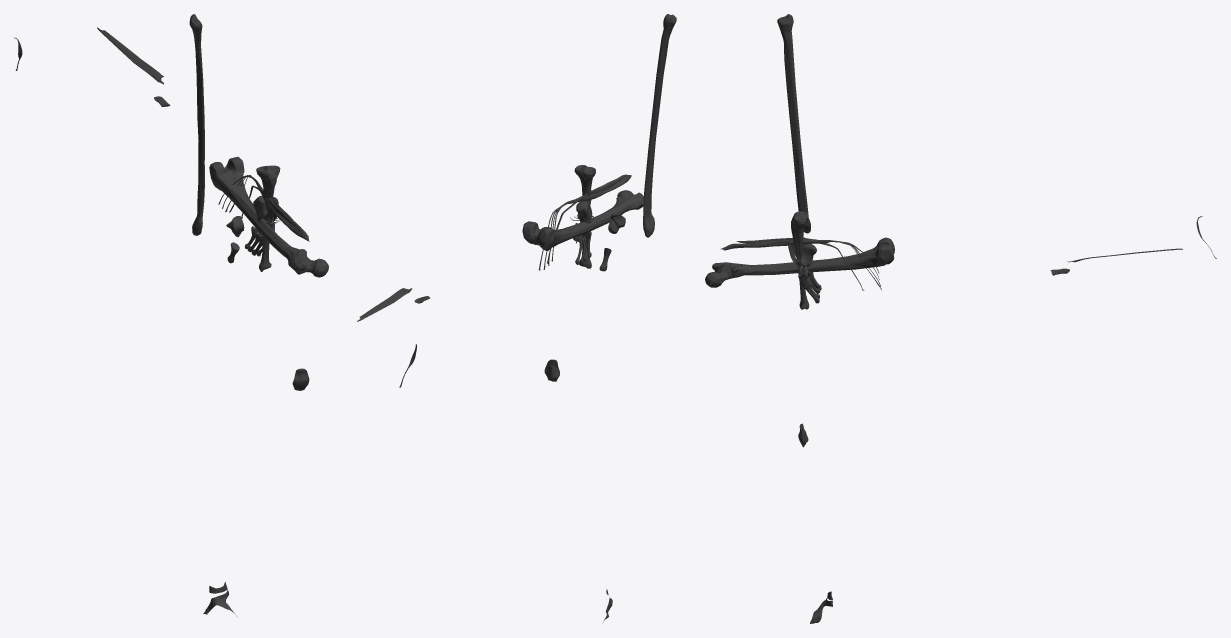
The model's file is sharedassets2.glb.
3 renders of one model, left to right at view 1: azimuth 30°, elevation 25°; view 2: azimuth 150°, elevation 25°; view 3: azimuth 270°, elevation 25°, orthographic. The views are drawn at different scales.
Parts seen in each view (by area): view 1: 0001_Femur _thigh_, R__000930, 0030_Fibula _leg_, R__000928, 0029_Tibia _leg_, R__000925, 0033_Extensor digitorum longus, R__1000136, 0031_Interosseous membrane of the leg _middle; view 2: 0001_Femur _thigh_, R__000930, 0030_Fibula _leg_, R__000928, 0033_Extensor digitorum longus, R__1000136, 0029_Tibia _leg_, R__000925; view 3: 0001_Femur _thigh_, R__000930, 0030_Fibula _leg_, R__000928, 0029_Tibia _leg_, R__000925.
Part boxes in pixels (left/top/right/bottom): 0001_Femur _thigh_, R__000930: left=209, top=156, right=328, bottom=277; 0030_Fibula _leg_, R__000928: left=189, top=14, right=204, bottom=235; 0029_Tibia _leg_, R__000925: left=256, top=165, right=280, bottom=271; 0033_Extensor digitorum longus, R__1000136: left=218, top=175, right=309, bottom=241; 0031_Interosseous membrane of the leg _middle: left=97, top=27, right=163, bottom=84; 0001_Femur _thigh_, R__000930: left=522, top=190, right=643, bottom=251; 0030_Fibula _leg_, R__000928: left=643, top=14, right=676, bottom=237; 0033_Extensor digitorum longus, R__1000136: left=539, top=174, right=631, bottom=270; 0029_Tibia _leg_, R__000925: left=574, top=165, right=595, bottom=268; 0001_Femur _thigh_, R__000930: left=705, top=237, right=894, bottom=287; 0030_Fibula _leg_, R__000928: left=777, top=14, right=810, bottom=233; 0029_Tibia _leg_, R__000925: left=791, top=211, right=809, bottom=309.
Size of the model in its own units: 0.1823 by 0.8427 by 0.6683.
1 material, 1 textured.
